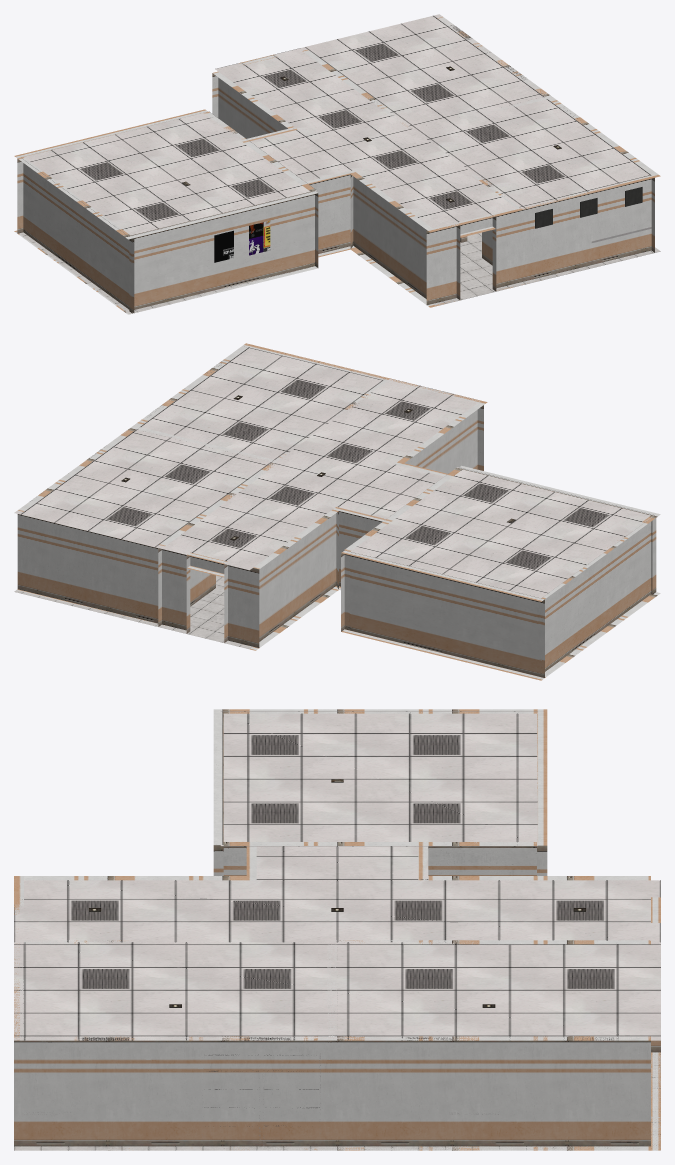
File: RZ_room2_poffices.obj
The picture shows the model from 3 angles, top to bottom: view 1: azimuth 30°, elevation 25°; view 2: azimuth 150°, elevation 25°; view 3: azimuth 270°, elevation 25°; orthographic projection. The views are drawn at different scales.
Parts seen in each view (by area): view 1: room2poffices_opt; view 2: room2poffices_opt; view 3: room2poffices_opt.
Part boxes in pixels (<box>): room2poffices_opt: <box>14,14,660,314</box>; room2poffices_opt: <box>14,343,660,680</box>; room2poffices_opt: <box>14,709,660,1150</box>.
Size of the model in its own units: 24.8 by 3.86 by 20.48.
